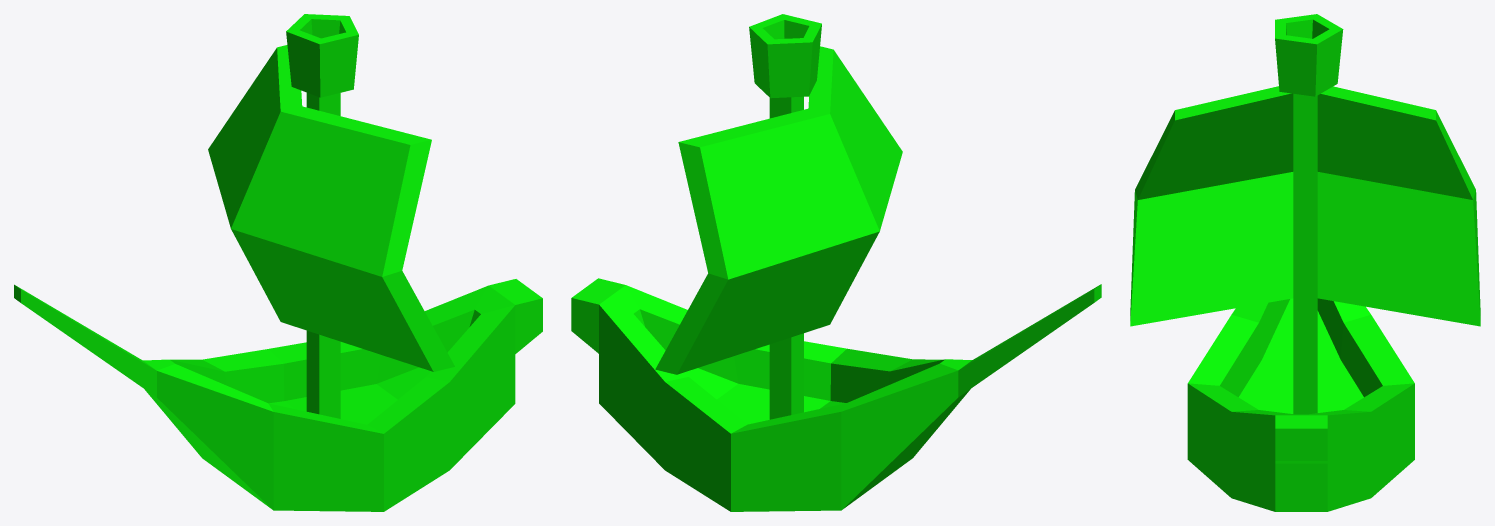
The model's file is SM_Battlemap_Figurine_Ship_A_Fantasy.fbx.
3 renders of one model, left to right at view 1: azimuth 30°, elevation 25°; view 2: azimuth 150°, elevation 25°; view 3: azimuth 270°, elevation 25°, orthographic. The views are drawn at different scales.
Parts seen in each view (by area): view 1: battlemap-figurine-ship-a-fantasy; view 2: battlemap-figurine-ship-a-fantasy; view 3: battlemap-figurine-ship-a-fantasy.
Part boxes in pixels (box(x1,y1,x2,y2)): battlemap-figurine-ship-a-fantasy: box(14, 14, 542, 511); battlemap-figurine-ship-a-fantasy: box(571, 14, 1101, 511); battlemap-figurine-ship-a-fantasy: box(1130, 14, 1480, 511).
Size of the model in its own units: 0.5003 by 0.4107 by 0.3031.
